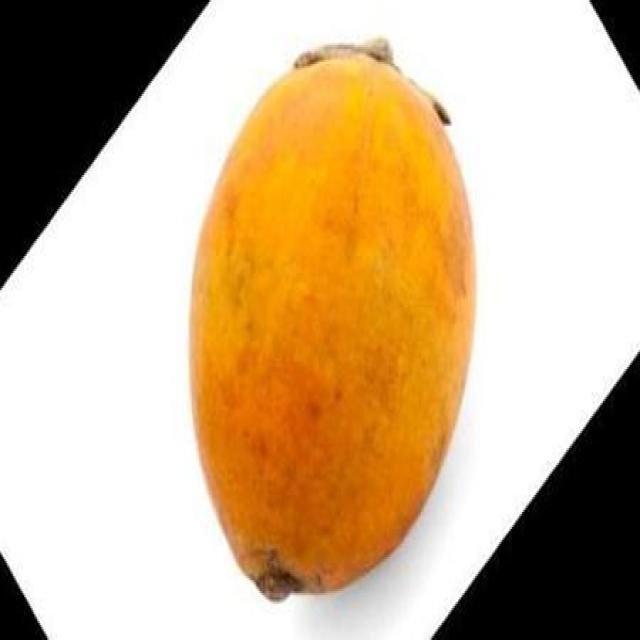good: (188, 47, 479, 606)
